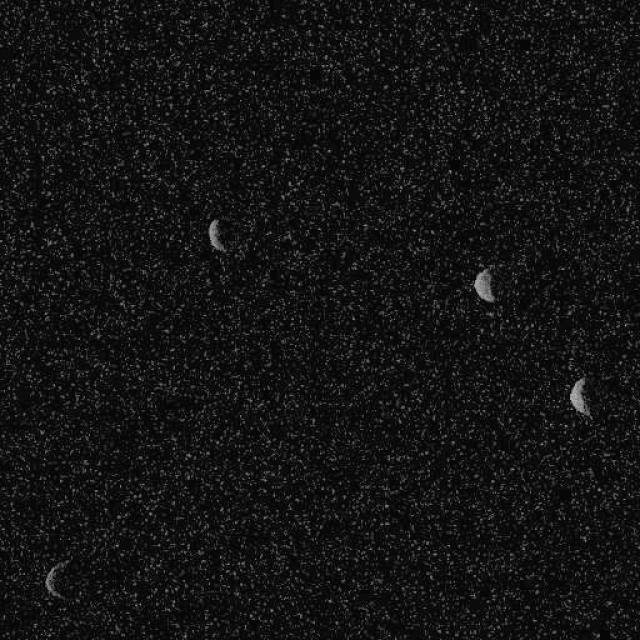D2: (44, 559, 70, 600), (568, 375, 592, 419), (472, 265, 496, 304), (206, 216, 226, 252)
